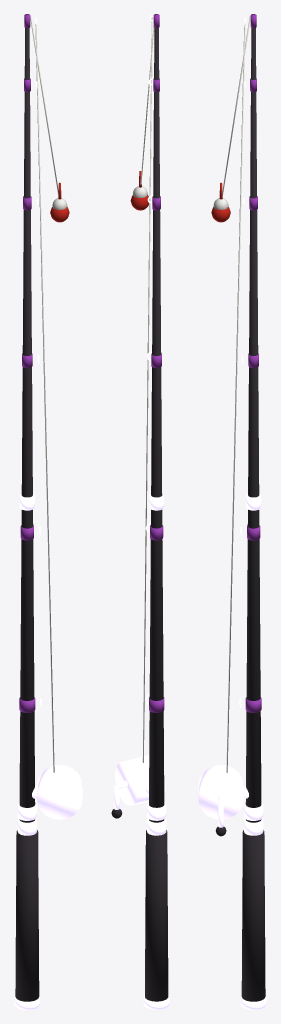
The model's file is angelrute.mythisch.glb.
The picture shows the model from 3 angles, left to right: view 1: azimuth 90°, elevation 25°; view 2: azimuth 210°, elevation 25°; view 3: azimuth 270°, elevation 25°; orthographic projection.
Visible parts, largest first — view 1: angelrute; view 2: angelrute; view 3: angelrute.
Boxes of the visible parts, <box> form: angelrute: <box>14,14,82,1009</box>; angelrute: <box>111,14,169,1009</box>; angelrute: <box>198,14,266,1009</box>.
Size of the model in its own units: 0.09 by 2.01 by 0.126.
